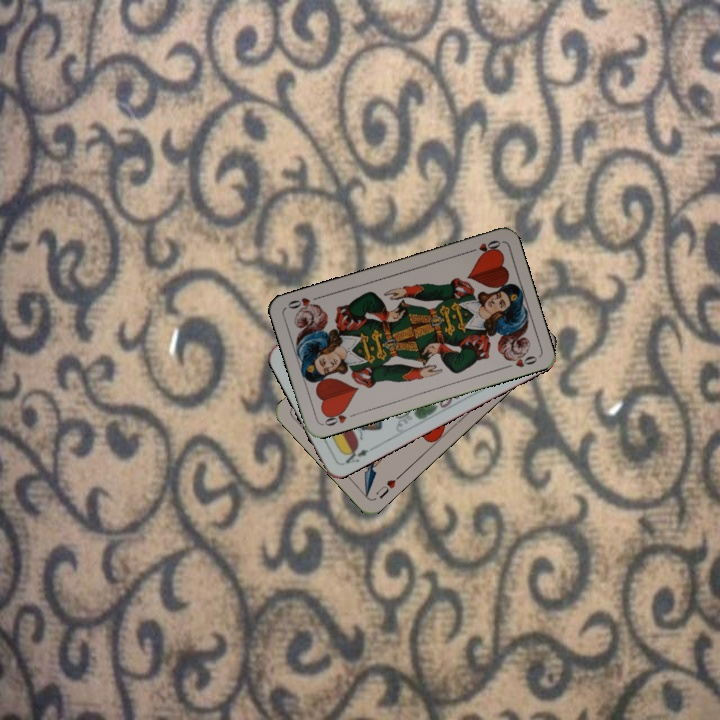EA: (340, 442, 377, 466)
HO: (320, 405, 359, 429), (463, 236, 503, 257)
HU: (372, 470, 404, 502)
